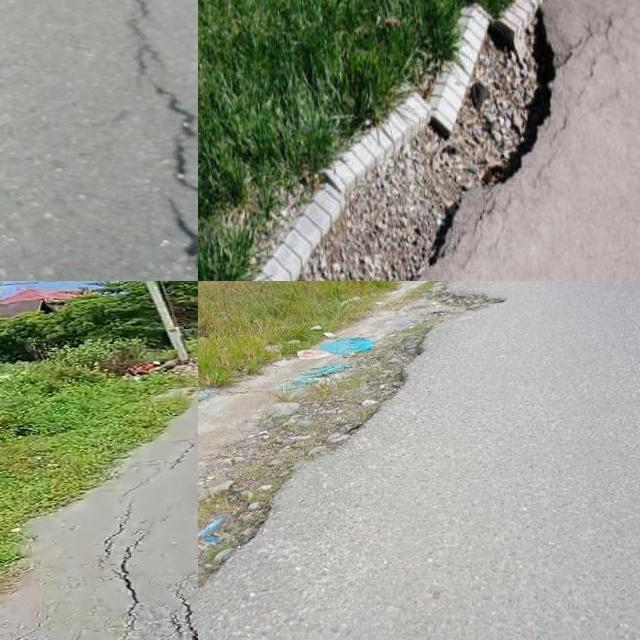Memanjang: (102, 0, 198, 281)
Pinggir: (198, 281, 516, 608), (222, 0, 568, 281)
